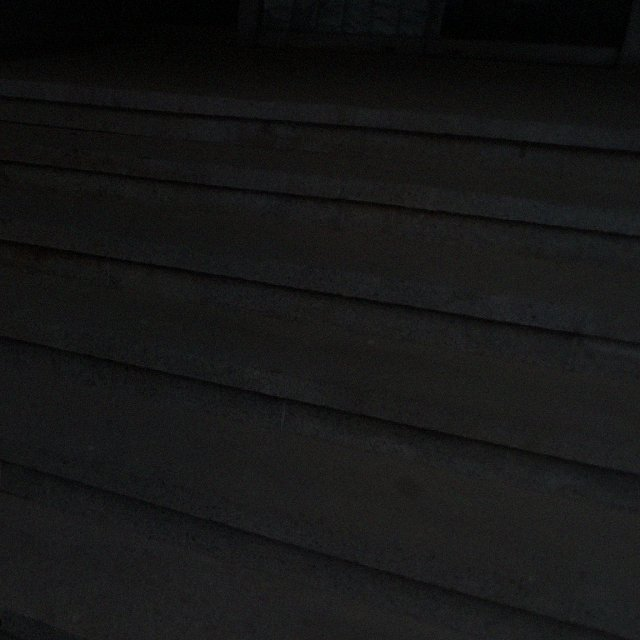stair: (0, 43, 639, 639)
